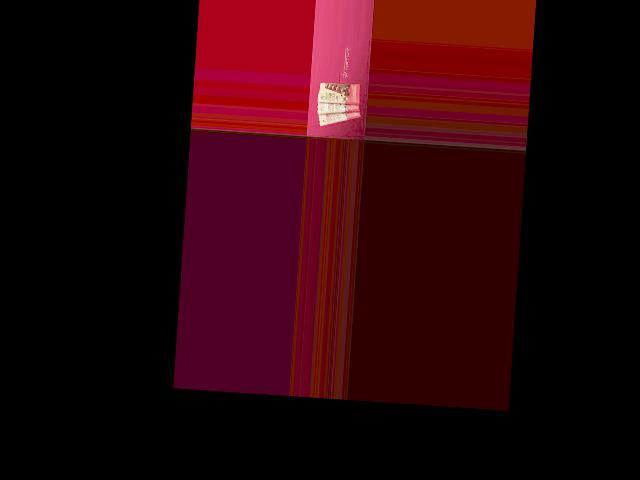chocolate: (315, 104, 363, 128)
